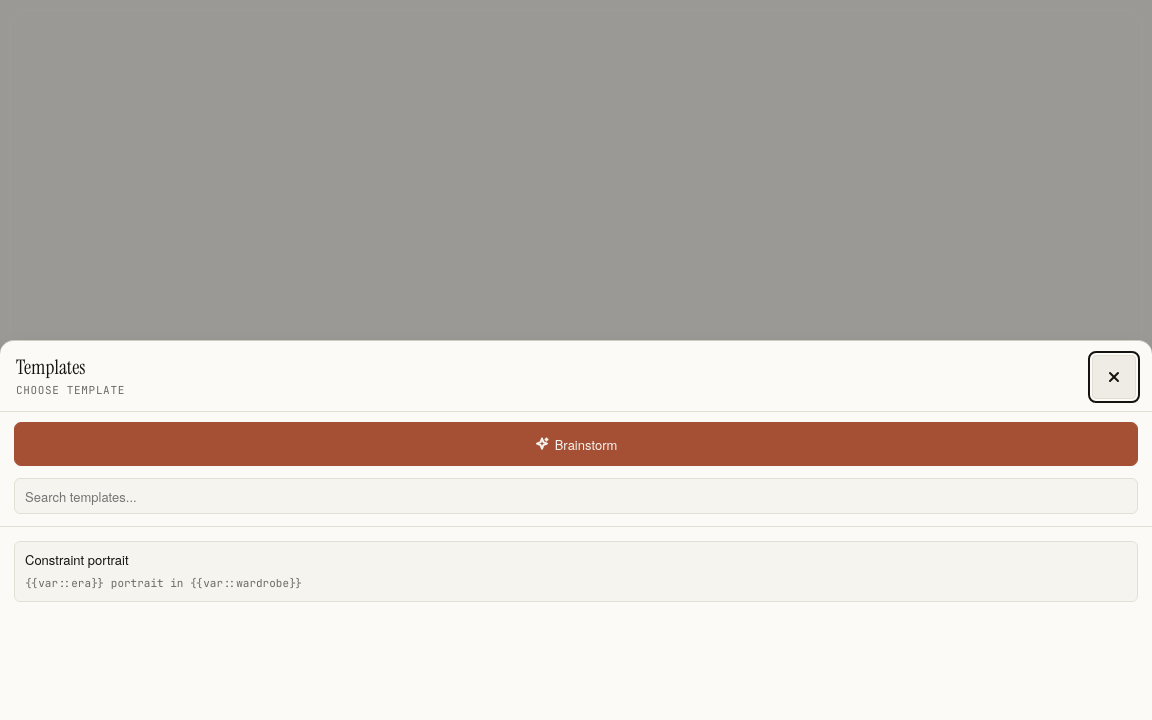
Scenario: PromptPicker axis dropdown coordination › phone: the axis sheet only dismisses on a completed backdrop tap
This screenshot has width=1152, height=720.
Click the button "Constraint portrait". click: coordinates (77, 560)
box: left=14, top=541, right=1138, bottom=602
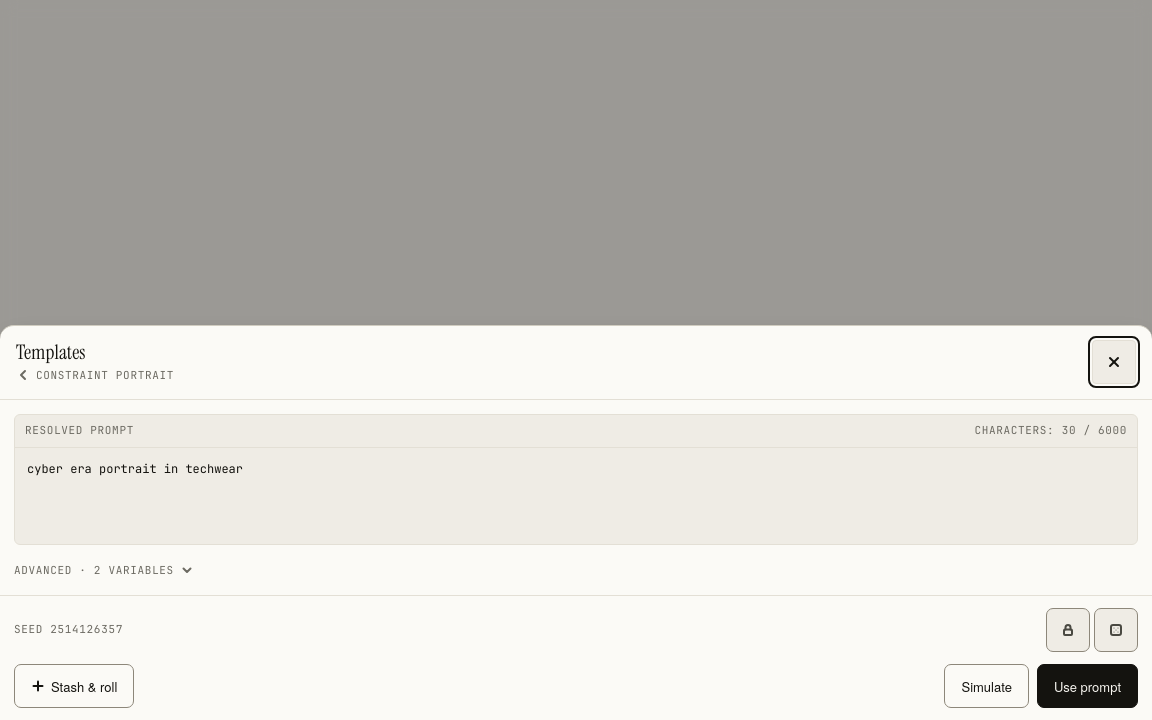
Click the button "Advanced · 2 variables". click: coordinates (104, 570)
box: left=14, top=559, right=194, bottom=581
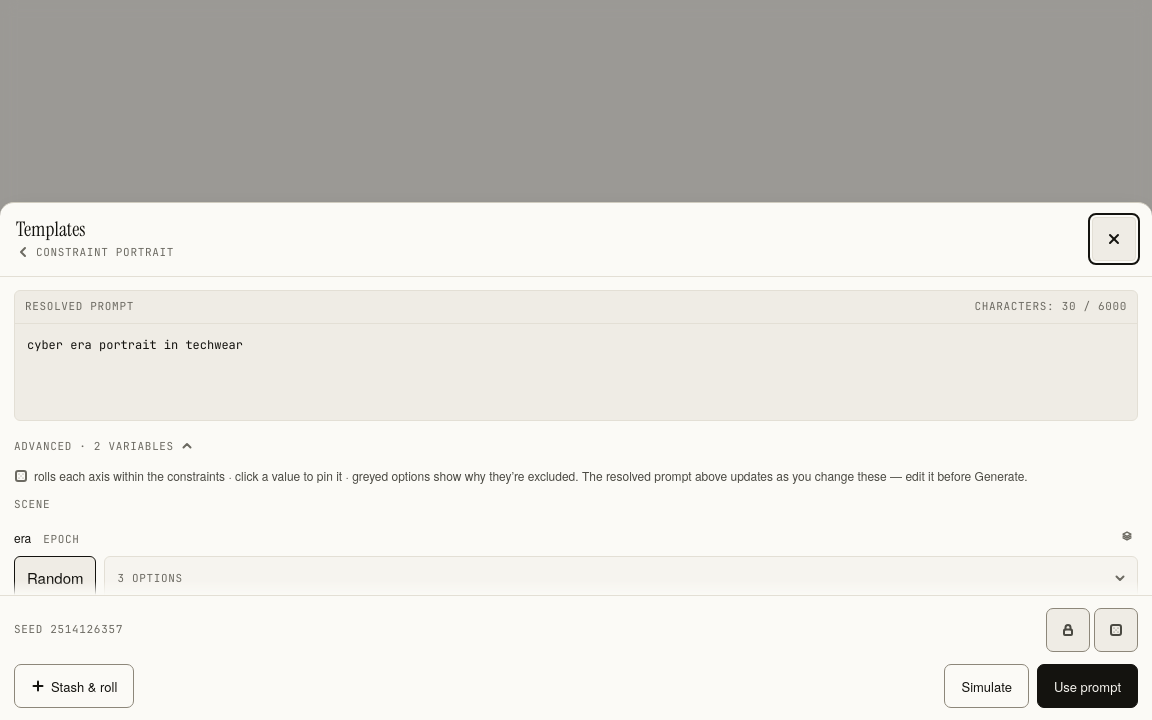
Click the button "3 options". click: coordinates (150, 578)
box: left=104, top=556, right=1138, bottom=600
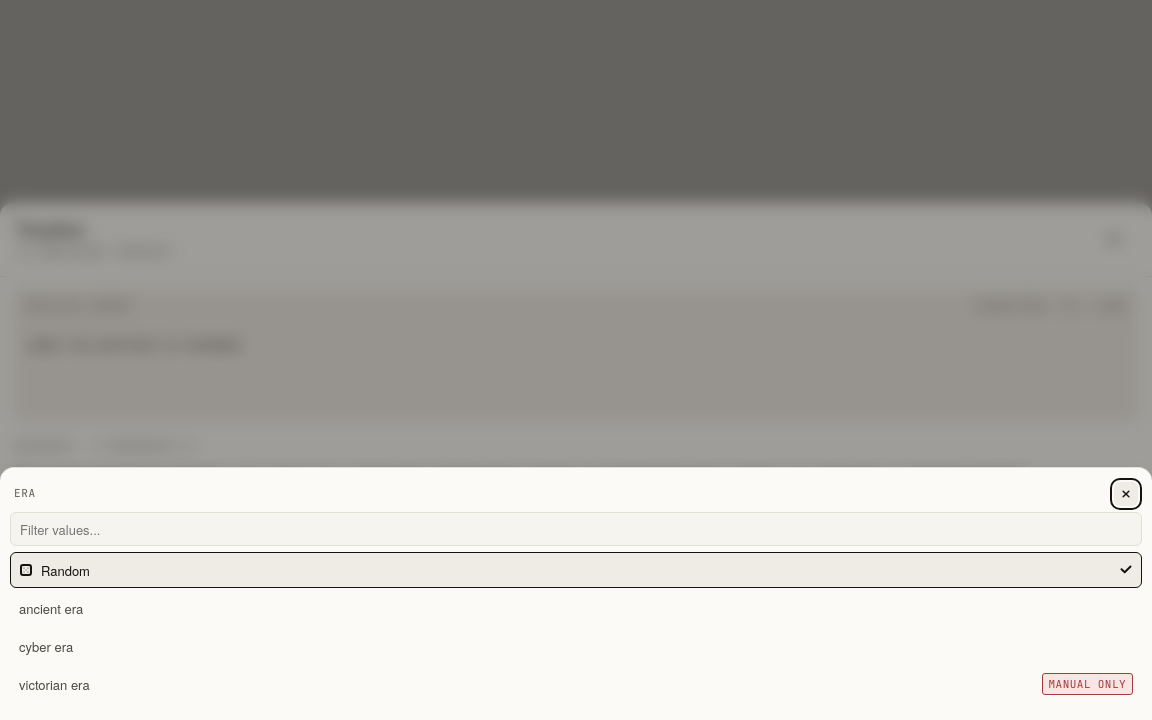
Press the mouse on the button named "close era values" at coordinates (576, 360), box left=0, top=0, right=1151, bottom=719
Result: the button "ancient era" is shown at left=10, top=590, right=1142, bottom=626
Click the button named "close era values". click: coordinates (576, 360)
box: left=0, top=0, right=1151, bottom=719
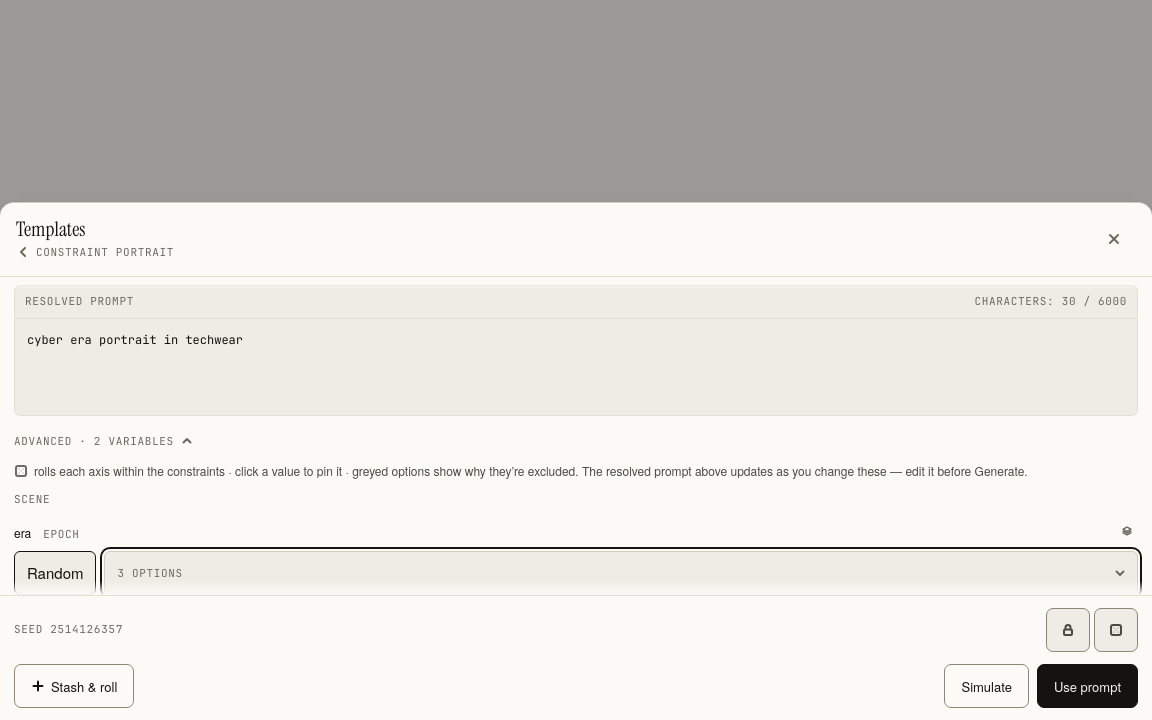
Result: the button "ancient era" is gone
